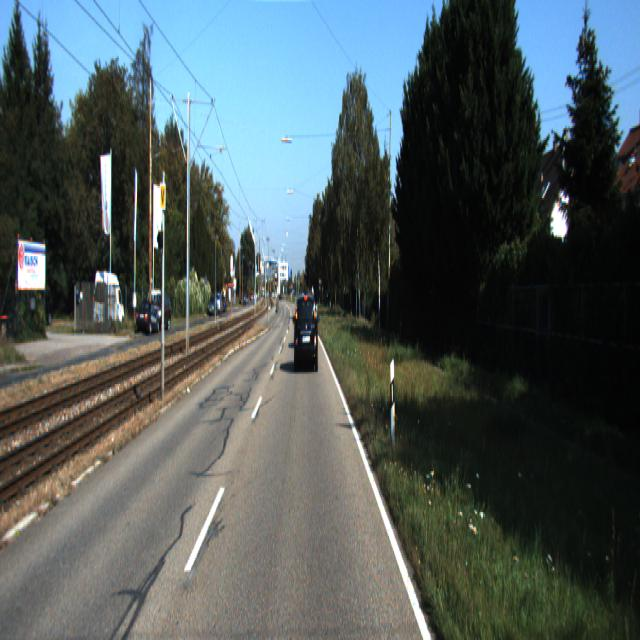Car: (93, 270, 125, 334), (295, 291, 319, 371), (136, 300, 162, 337)
